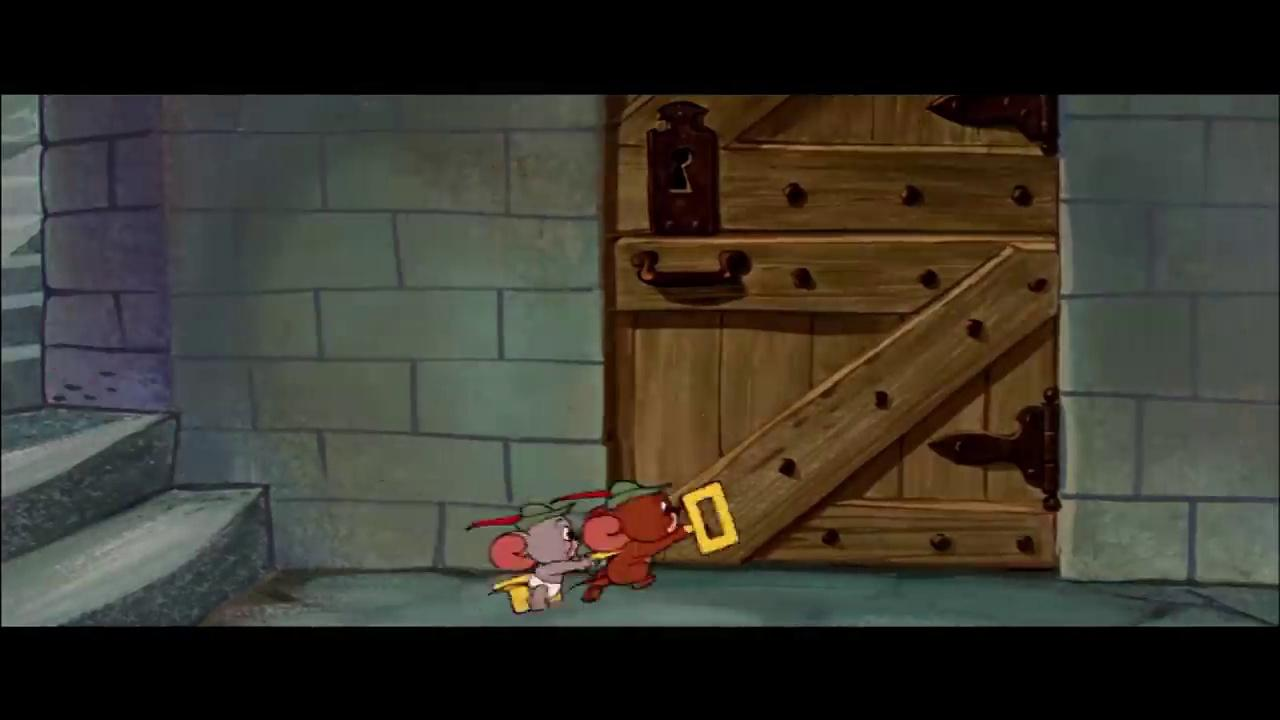Jerry: (564, 490, 696, 604)
